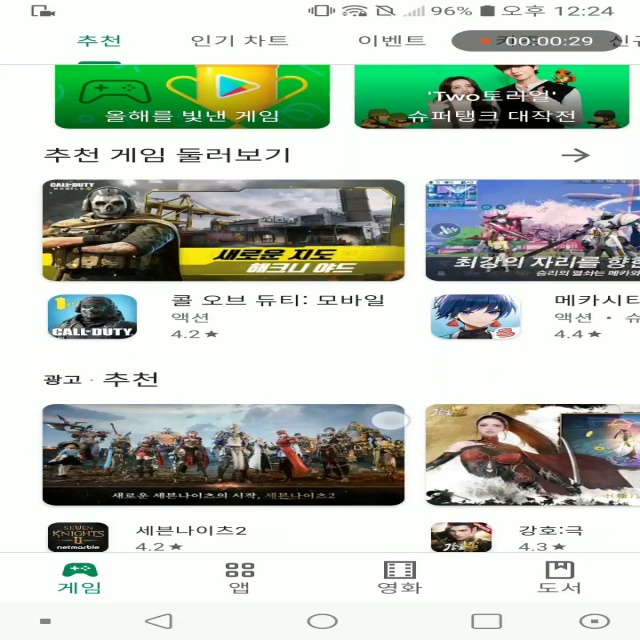Cursor: (369, 409, 414, 432)
